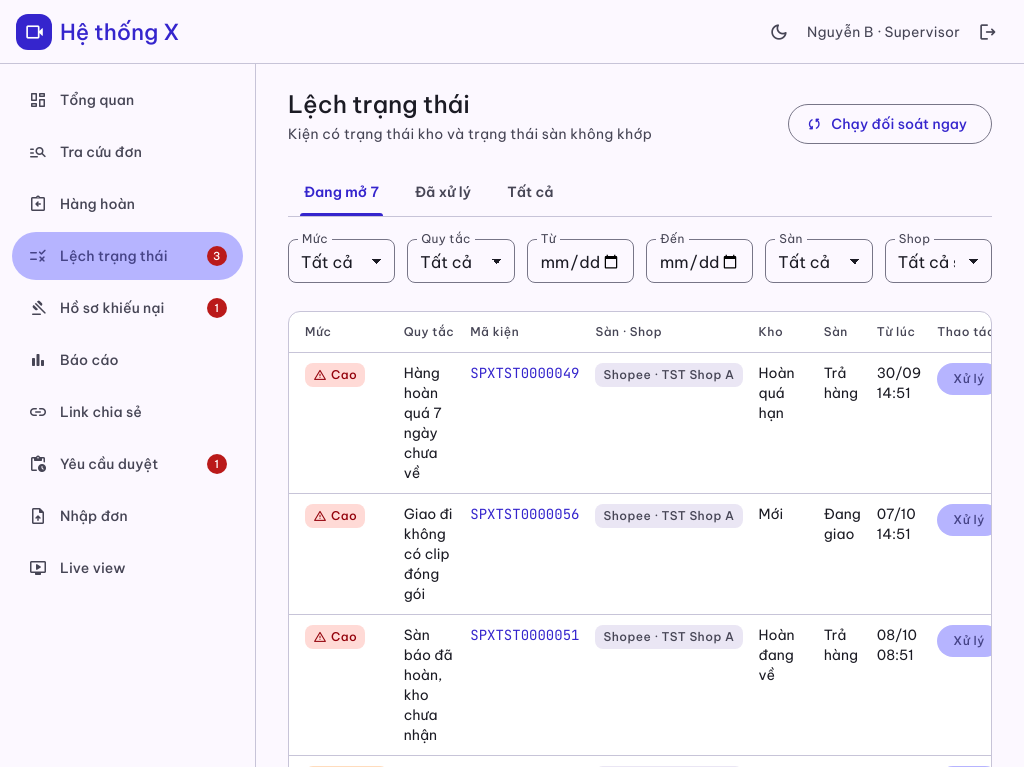
TC-06.18 (UI): Chạy đối soát ngay → đã yêu cầu; đang chạy → 'Đối soát đang chạy.'
The image size is (1024, 767).
Step 1. Click the button "Chạy đối soát ngay" → x=890, y=124, box [788, 104, 992, 144]
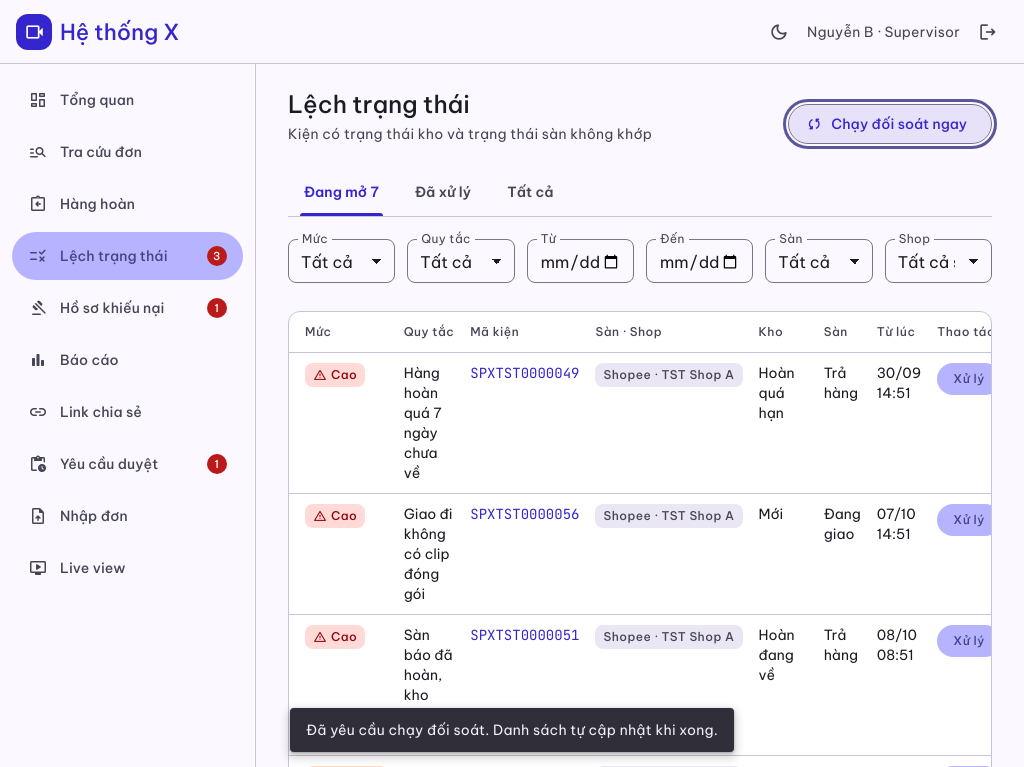
Expected: the text "Đã yêu cầu chạy đối soát. Danh sách tự cập nhật khi xong." is shown, [290, 708, 734, 752]
Step 2. Click the button "Chạy đối soát ngay" → x=890, y=124, box [788, 104, 992, 144]
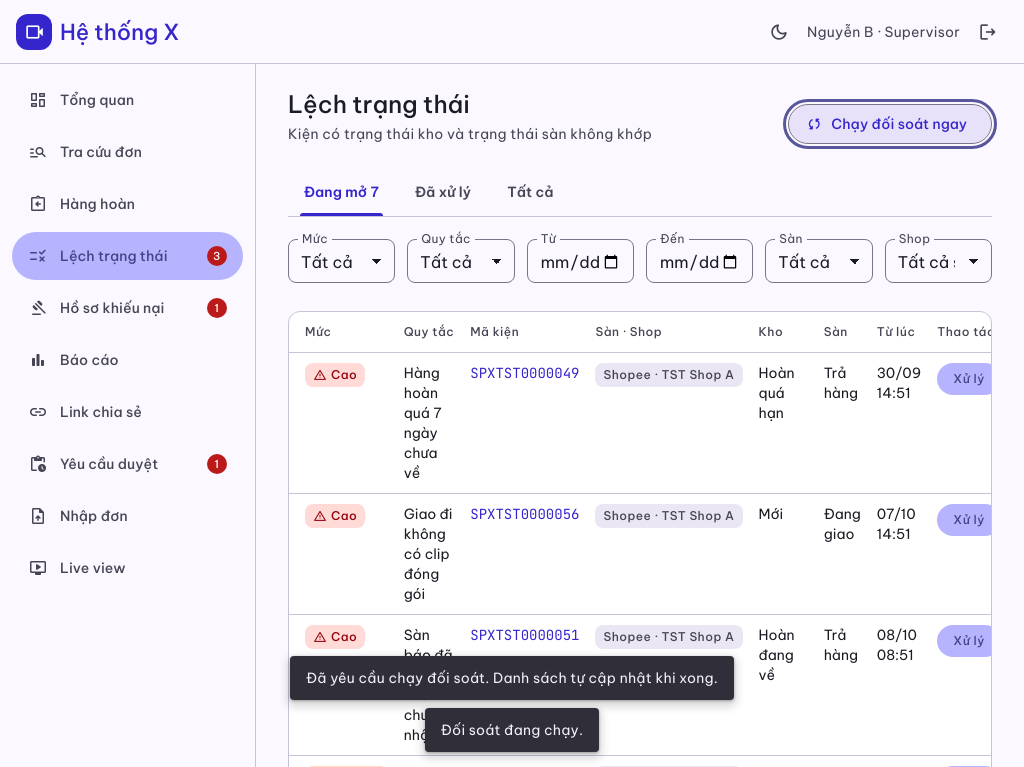
Expected: the text "Đối soát đang chạy." is shown, [425, 708, 599, 752]
